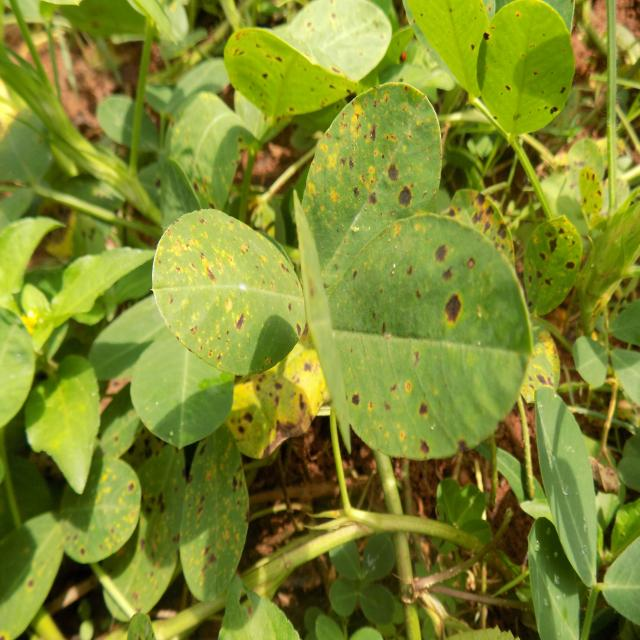Ground nut_healthy: (533, 384, 604, 592)
Ground nut_tikka leaf spot: (310, 215, 530, 460), (146, 208, 305, 374), (297, 76, 447, 236), (224, 5, 382, 108), (476, 0, 575, 148), (183, 433, 249, 597), (46, 456, 141, 564), (512, 194, 580, 322)
